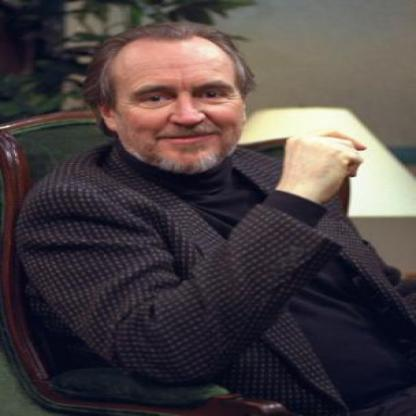face: (113, 25, 247, 175)
